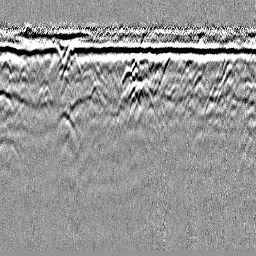cavity: (119, 65, 136, 89)
